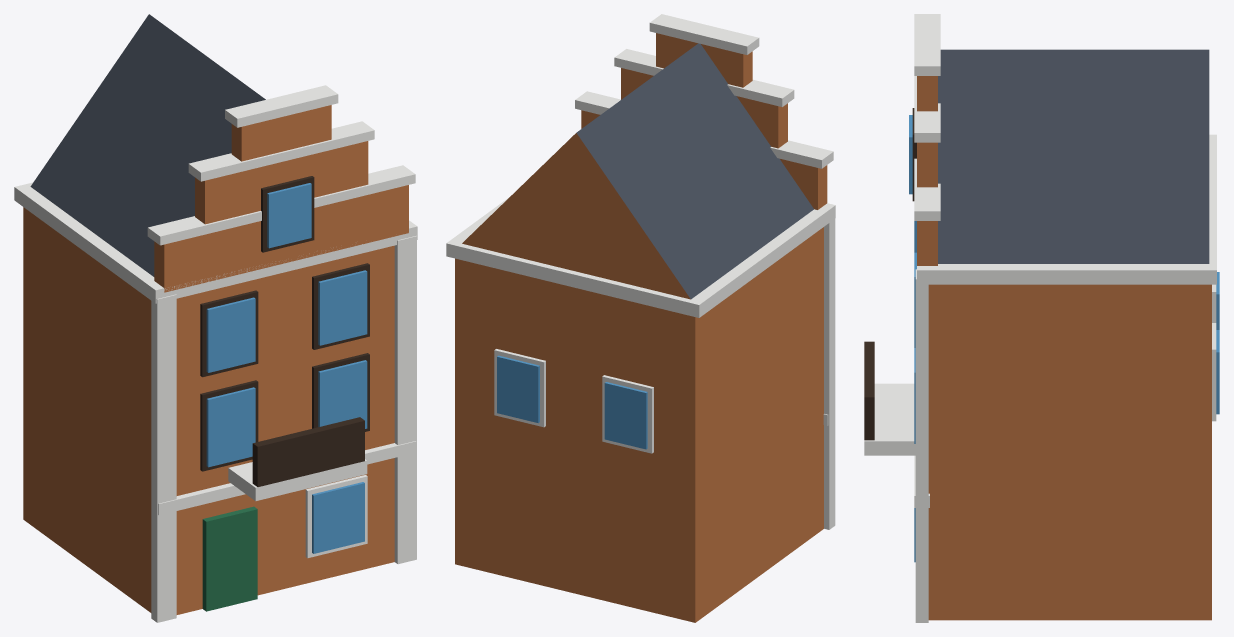
Rendered from 43_kgd_brick_balcony_3.obj.
3 views of the same model, side by side, from view 1: azimuth 30°, elevation 25°; view 2: azimuth 150°, elevation 25°; view 3: azimuth 270°, elevation 25° (orthographic). The views are drawn at different scales.
Parts seen in each view (by area): view 1: 43_kgd_brick_balcony_3; view 2: 43_kgd_brick_balcony_3; view 3: 43_kgd_brick_balcony_3.
Part boxes in pixels (x1,y1,x2,y2): 43_kgd_brick_balcony_3: (14,14,417,622); 43_kgd_brick_balcony_3: (446,14,835,622); 43_kgd_brick_balcony_3: (864,14,1219,622).
Bounding box in the file's own units: 1.22 × 2.16 × 1.35.
